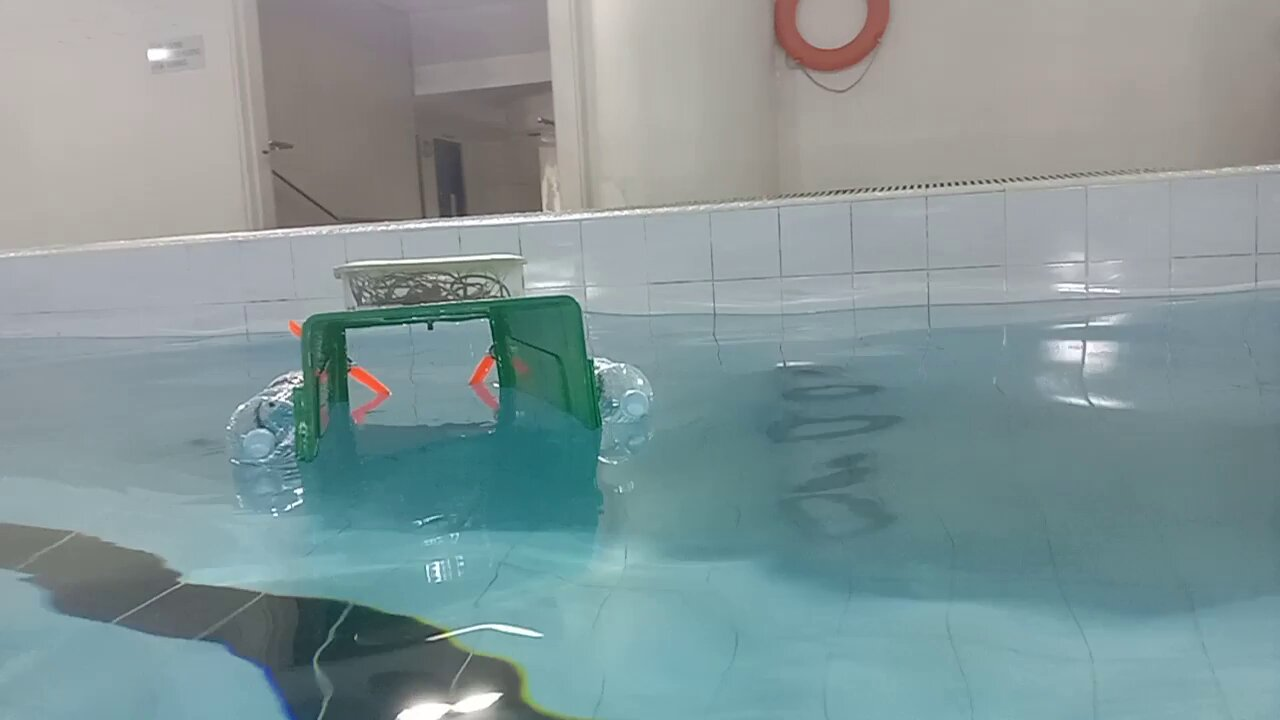drone: (219, 246, 657, 488)
